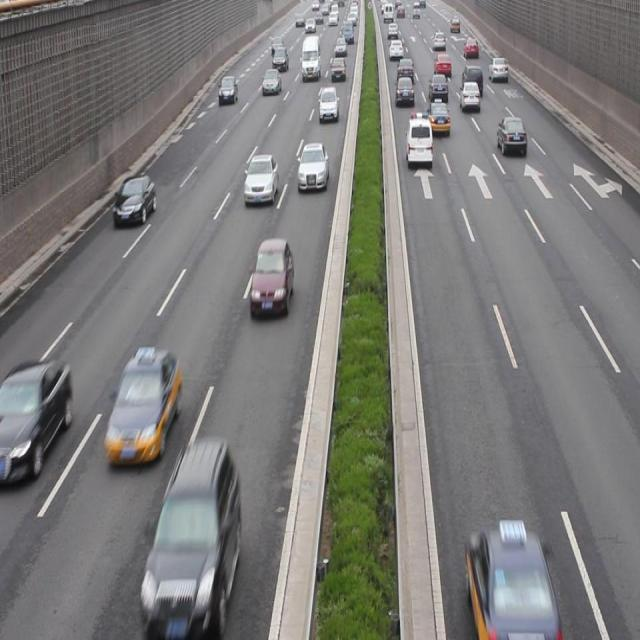car: (137, 438, 240, 620), (466, 517, 560, 629), (106, 346, 182, 466), (1, 359, 73, 484), (250, 238, 294, 320), (111, 177, 156, 225), (244, 154, 278, 204), (297, 143, 328, 189), (496, 117, 526, 157), (425, 98, 450, 137)
truck: (406, 114, 432, 169)
